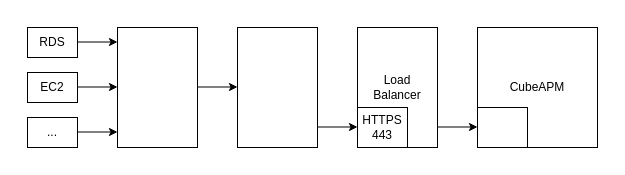
Image size: 625x175. Some labels were removed from this diagram. The shapes that lost their labels are listed below. From the top down, each one's centre as x and y in pixels, then its label:
(x=157, y=87): AWS CloudWatch
(x=277, y=87): Amazon Data Firehose
(x=502, y=127): HTTP 3130
